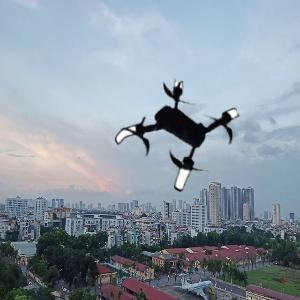drone: (114, 75, 243, 204)
